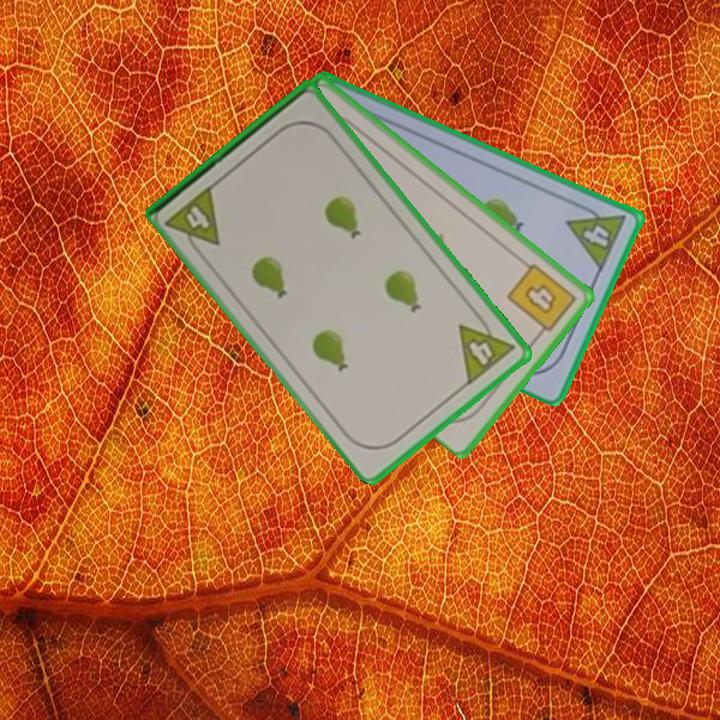4b: (503, 259, 580, 341)
4p: (563, 197, 629, 274), (455, 308, 518, 388), (162, 181, 224, 260)
